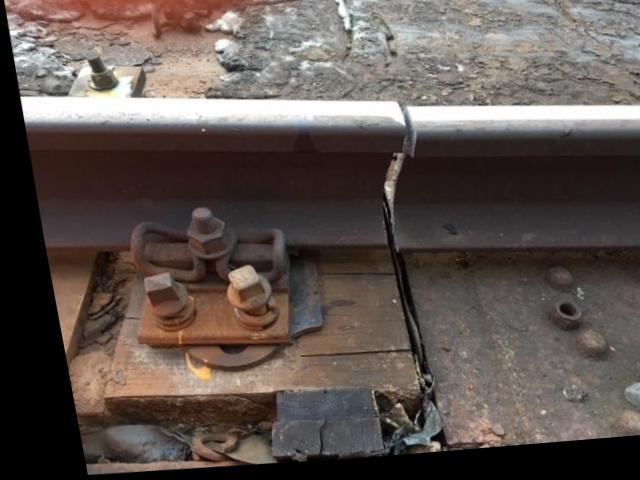person: (318, 151, 441, 257), (361, 84, 442, 178)
